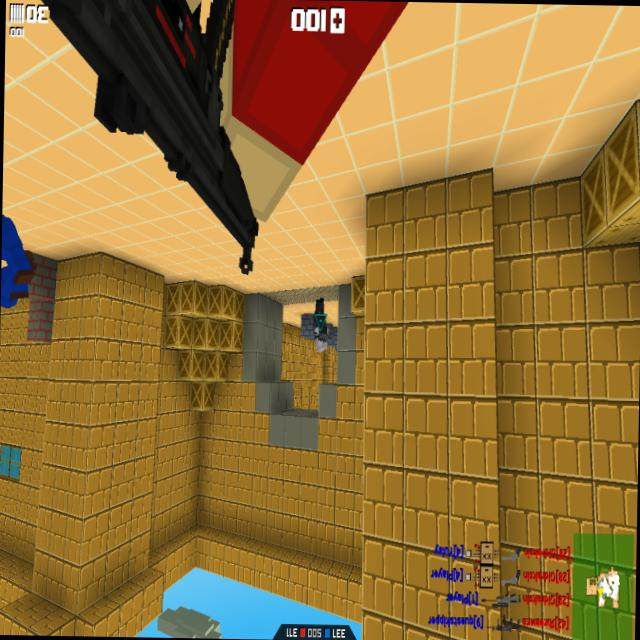enemy: (312, 298, 329, 352)
